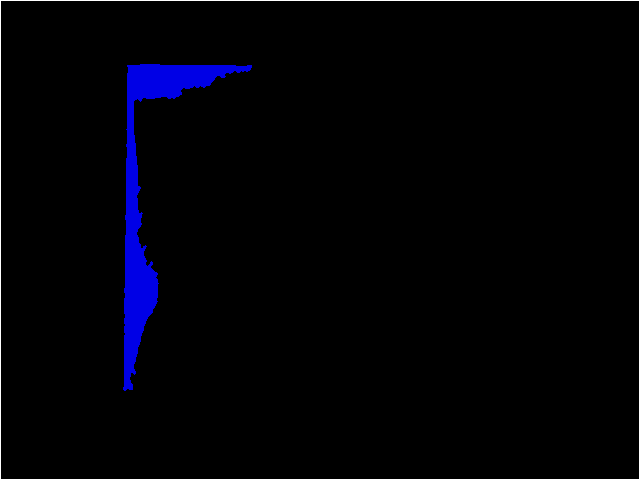defect: (122, 61, 254, 393)
